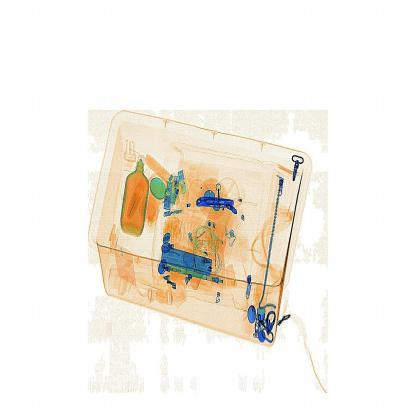knife: (191, 190, 239, 212)
